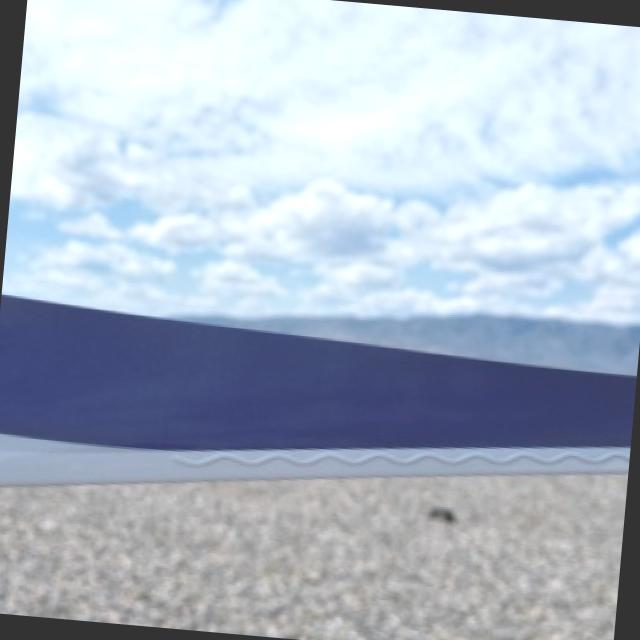healthy: (0, 292, 639, 481)
